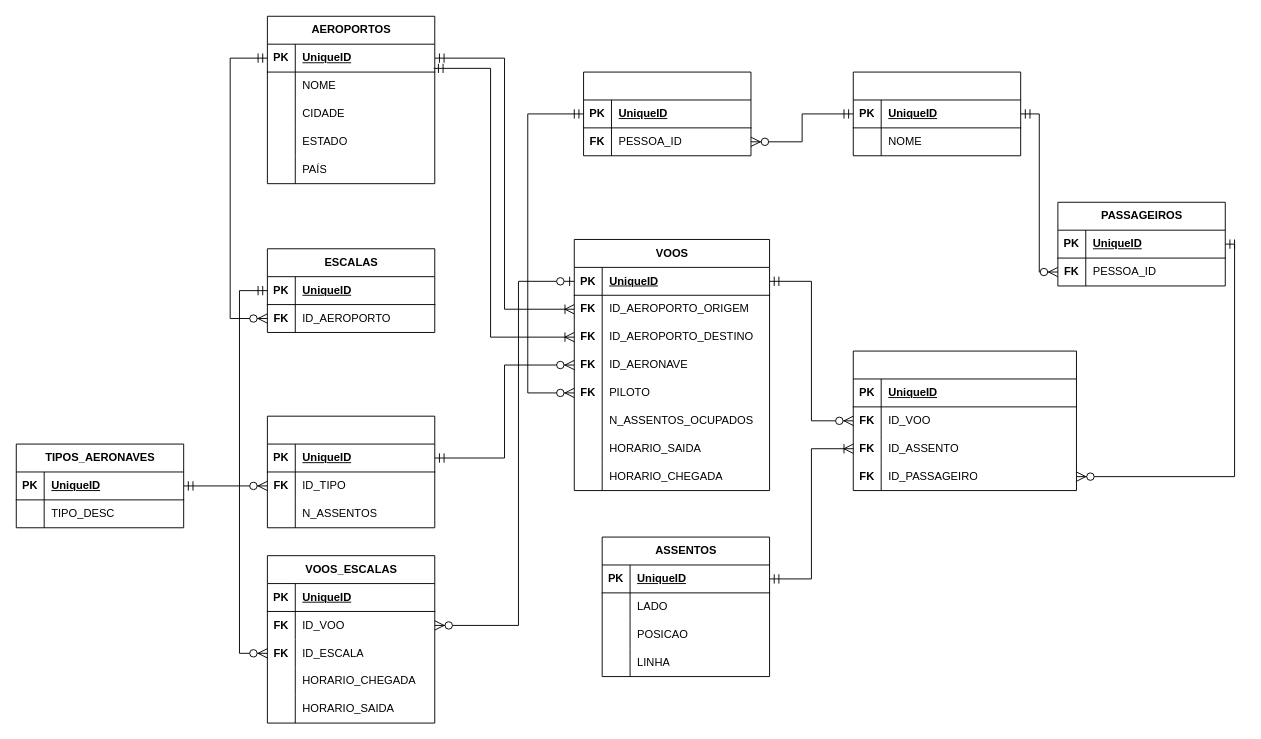
The diagram is 1261 pixels wide and 739 high, and some of its shapes have lost their labels. The box of each missing label's shape, as (x1, y1, x2, y2) in pixels:
AERONAVES: (266, 415, 435, 528)
ASSENTOS_PASSAGEIROS_VOOS: (852, 350, 1076, 491)
PESSOAS: (852, 71, 1021, 156)
PILOTOS: (583, 71, 751, 156)
